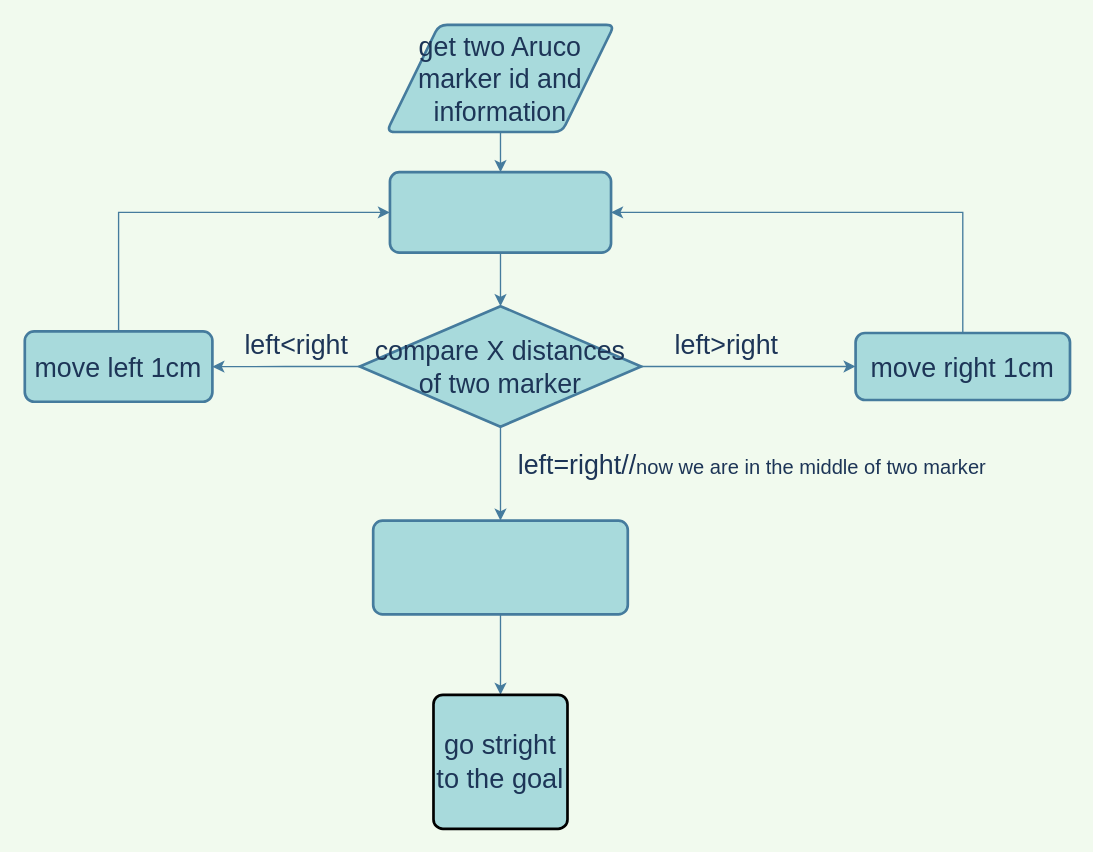
Some shapes in this 1093 by 852 pixel diagram are drawn without their labels. The centre of each missing label's shape, as x and y in pixels:
"caculate the position of two marker" belongs at point 500,211.
"caculate the Z distance between myAGV and goal" belongs at point 499,567.
